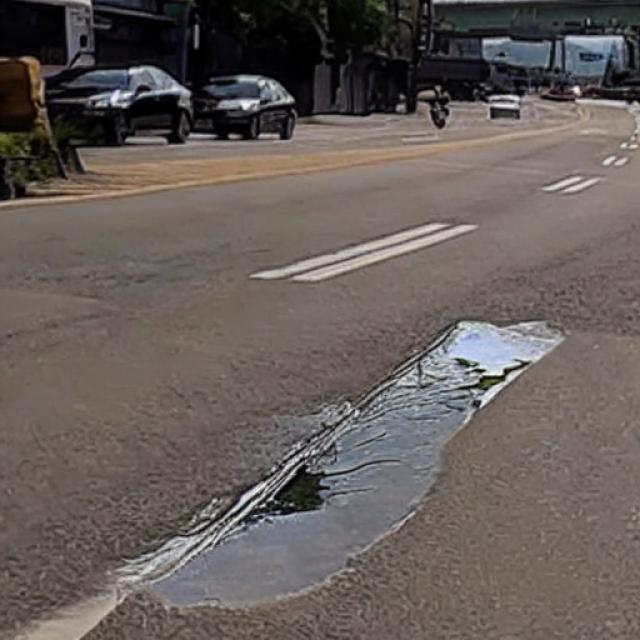puddle: (134, 320, 565, 608)
